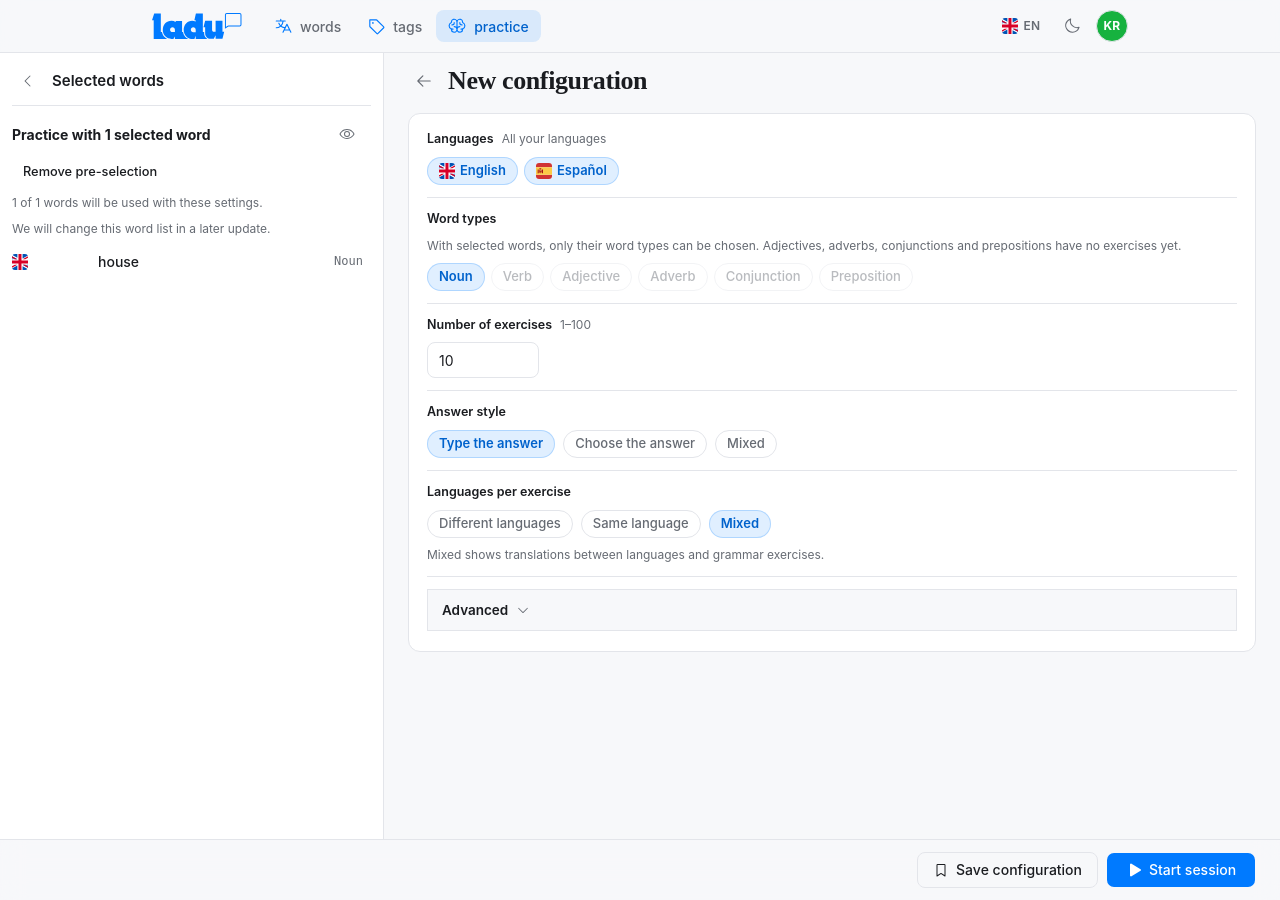
Test case: PracticePage — the words sidebar › is only in the New configuration view
The image size is (1280, 900).
Expected: the element named "Selected words" is shown, top-left (0, 53), bottom-right (384, 839)
Step 1. Click the button named "Back to Practice" → (424, 81), box top-left (408, 65), bottom-right (440, 97)
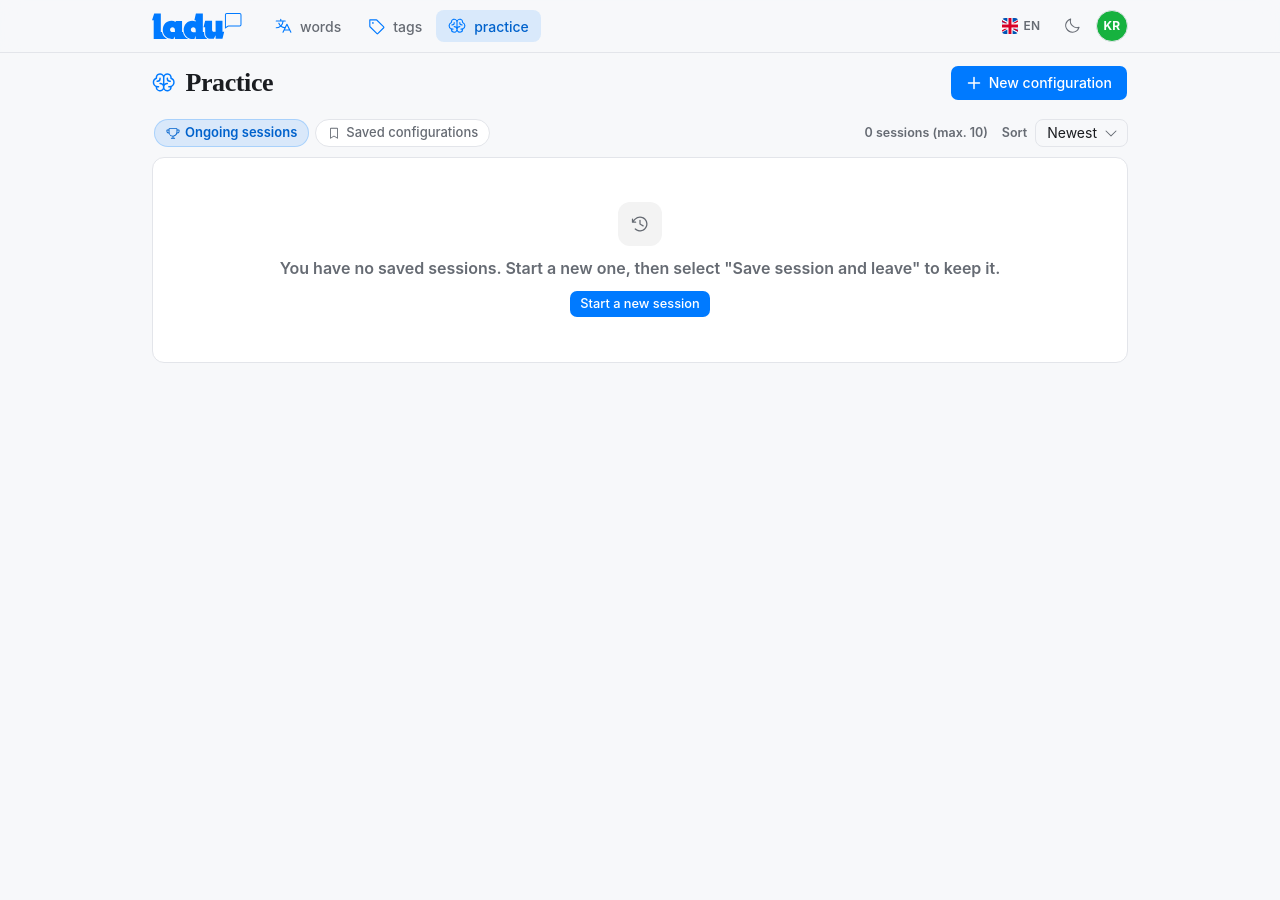
Step 2. Click the button "New configuration" → (1039, 83), box top-left (950, 65), bottom-right (1128, 101)
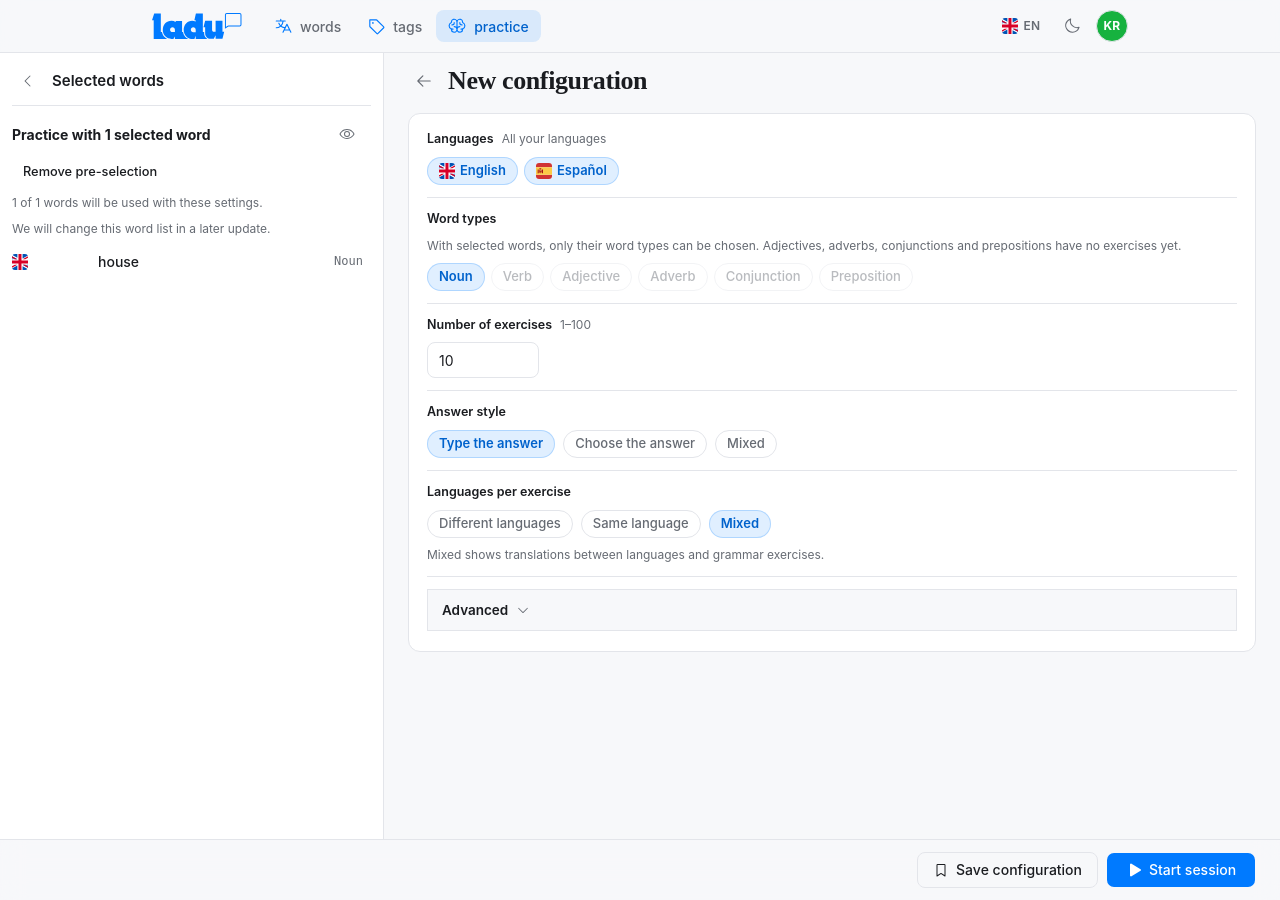
Expected: the element named "Selected words" is shown, top-left (0, 53), bottom-right (384, 839)
